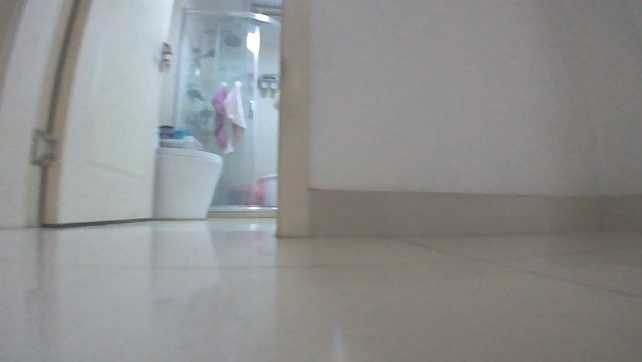door_anno: (0, 0, 174, 232)
toilet: (150, 139, 224, 222)
